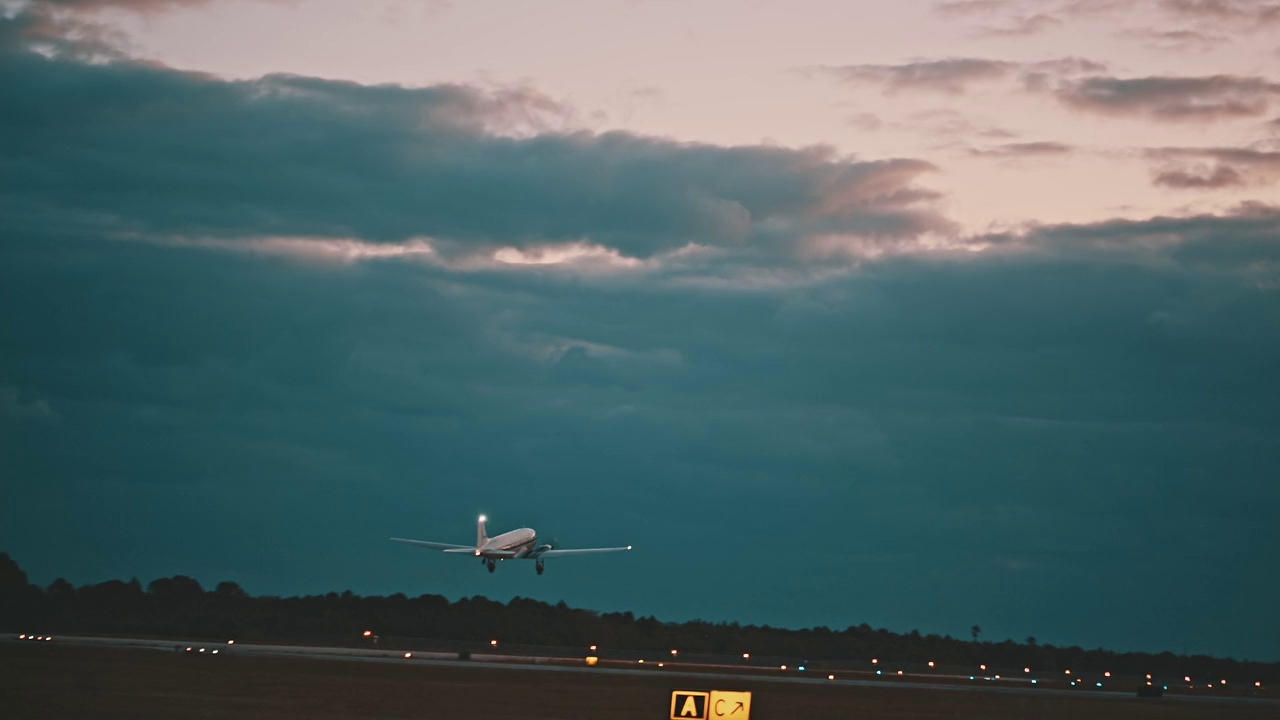plane: (388, 514, 632, 574)
